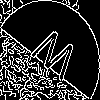W: (25, 25, 81, 90)
